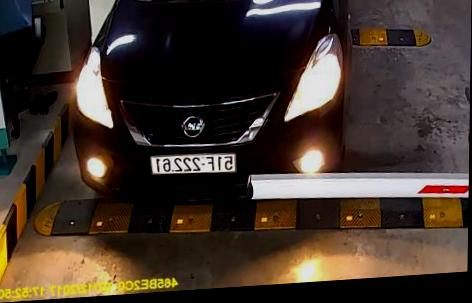License_Plate: (147, 145, 239, 180)
